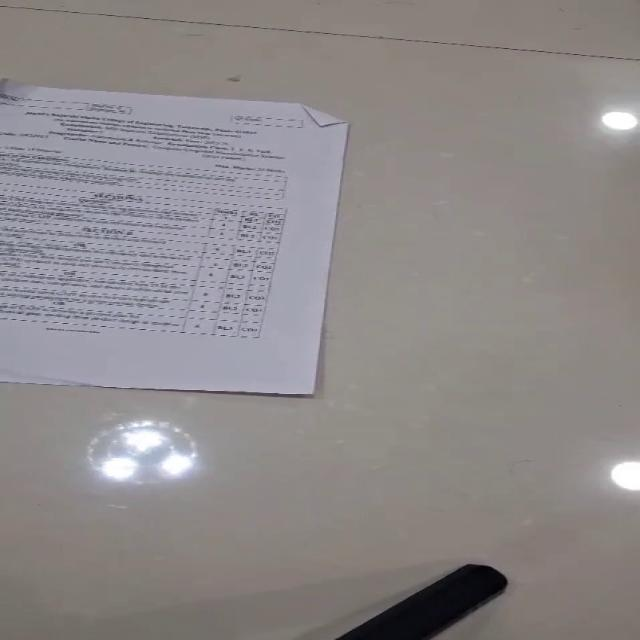paper: (0, 77, 349, 395)
